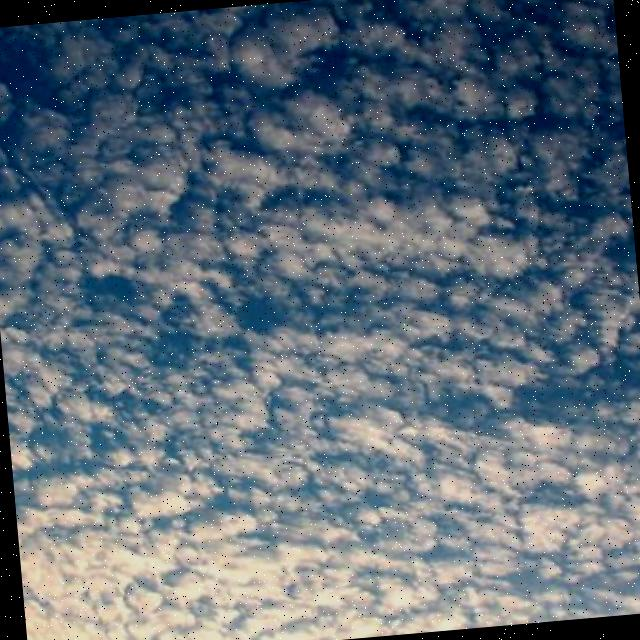Cc: (1, 31, 640, 546)
